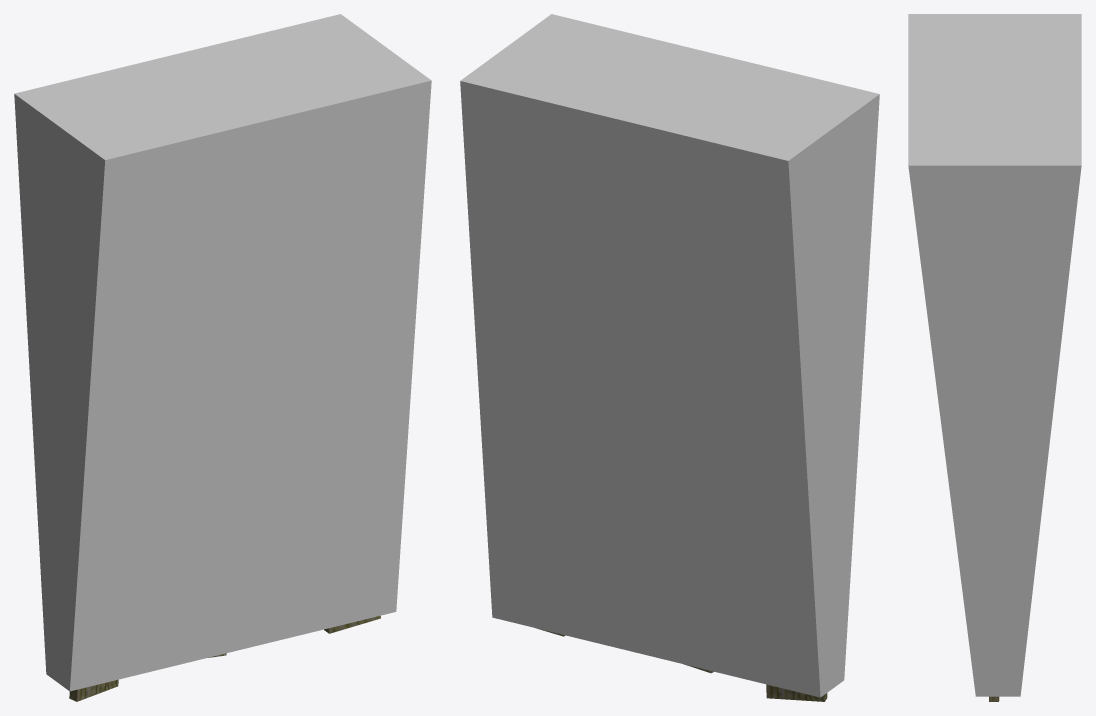
File: boardwallpart.obj
The picture shows the model from 3 angles, left to right: view 1: azimuth 30°, elevation 25°; view 2: azimuth 150°, elevation 25°; view 3: azimuth 270°, elevation 25°; orthographic projection. The views are drawn at different scales.
Parts seen in each view (by area): view 1: Box02; view 2: Box02; view 3: Box02.
Part boxes in pixels (x1,y1,x2,y2): Box02: (14,14,431,691); Box02: (460,14,879,697); Box02: (908,14,1081,696).
Bounding box in the file's own units: 37.44 × 63.18 × 18.06.
